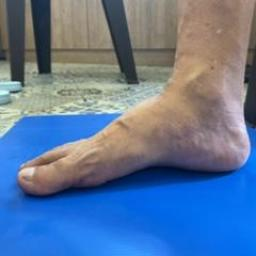Medial View -Right Foot-: (5, 57, 255, 208)
